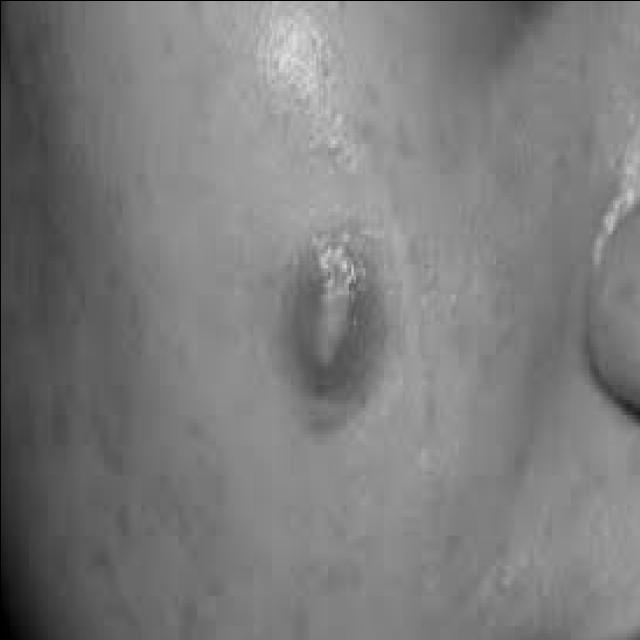nodule: (271, 181, 402, 452)
